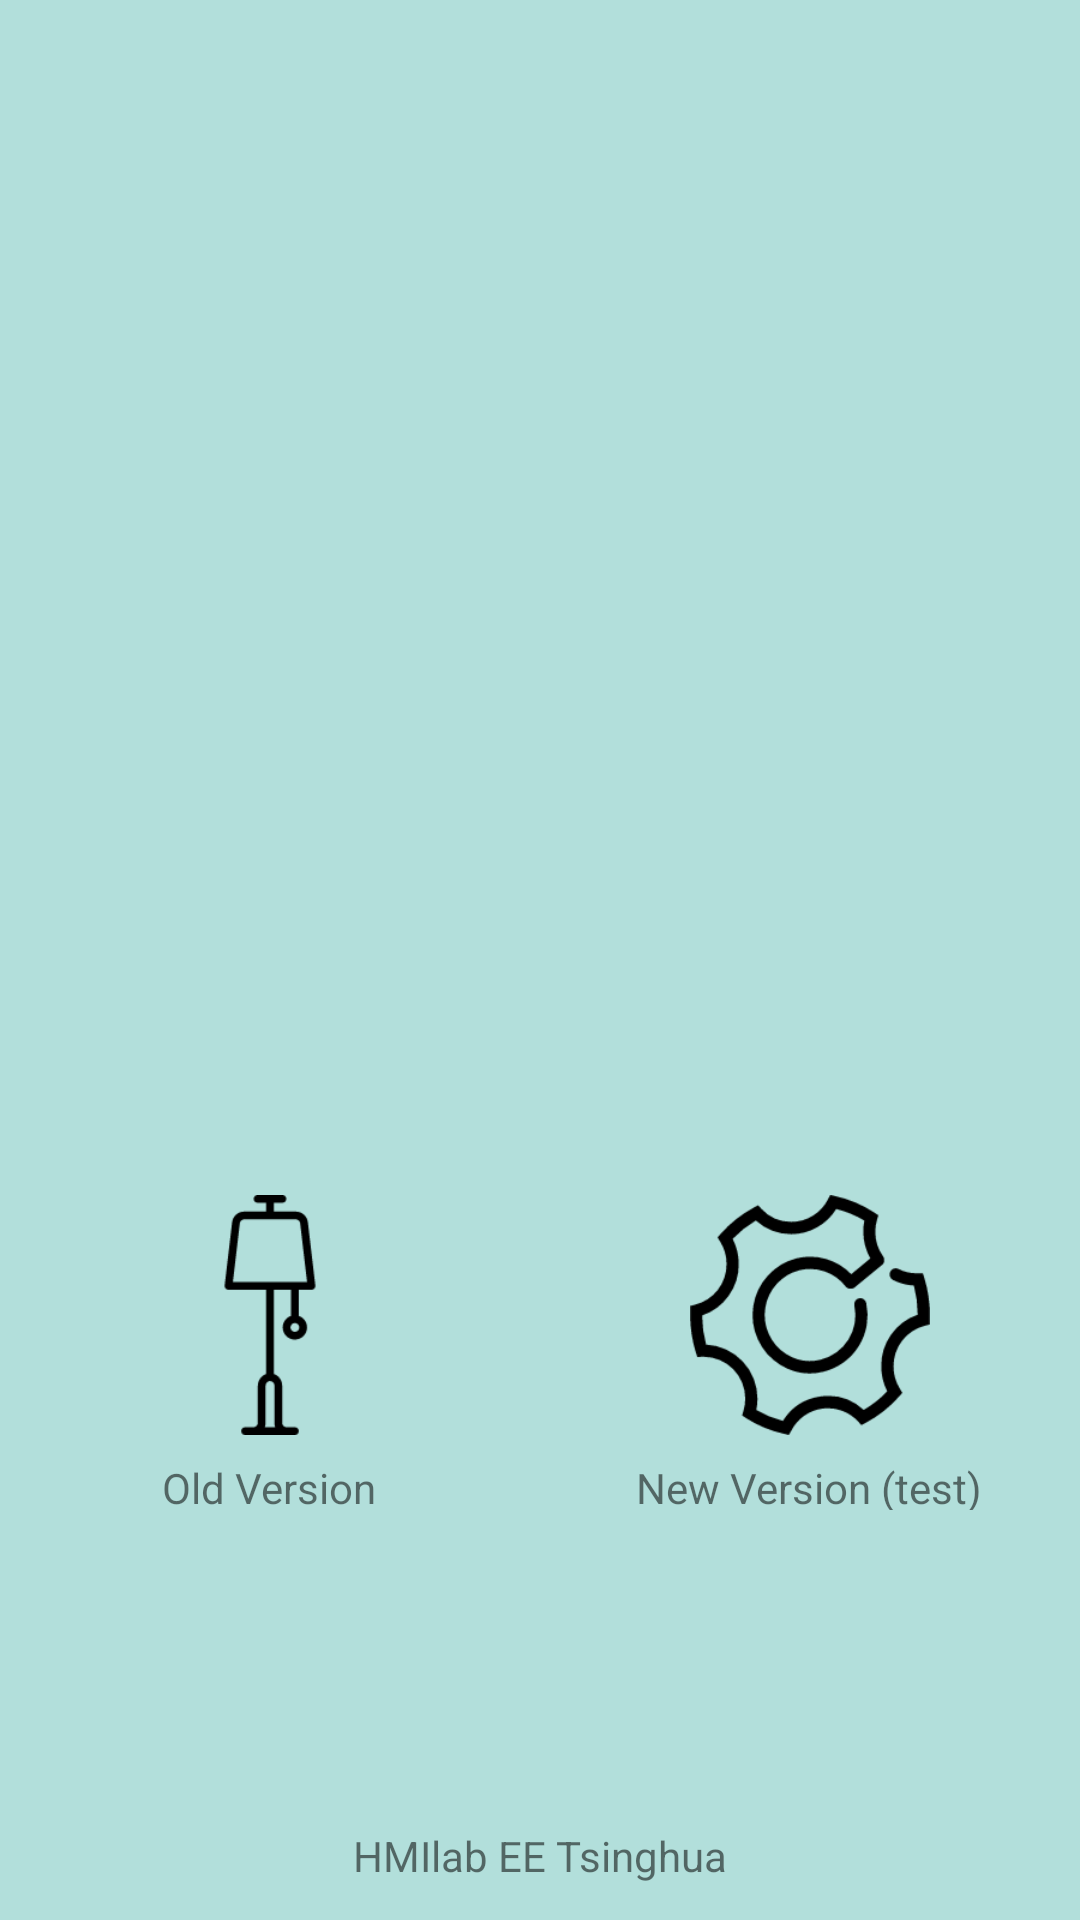

Locate icon controls on the screen. Image size 1080w x 1920h, boxes as (x1, y1, x2, y2).
gear: (690, 1195, 930, 1435)
lamp: (224, 1195, 316, 1435)
